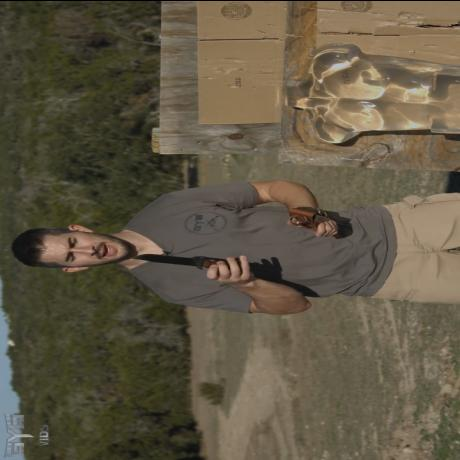1: (9, 174, 460, 318)
weapon: (130, 254, 210, 268)
